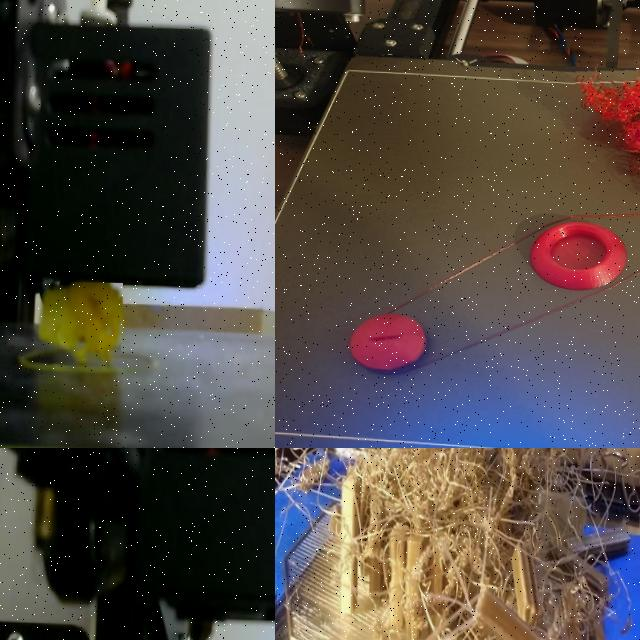spaghetti: (275, 448, 622, 640), (566, 67, 640, 172), (39, 282, 122, 360)
